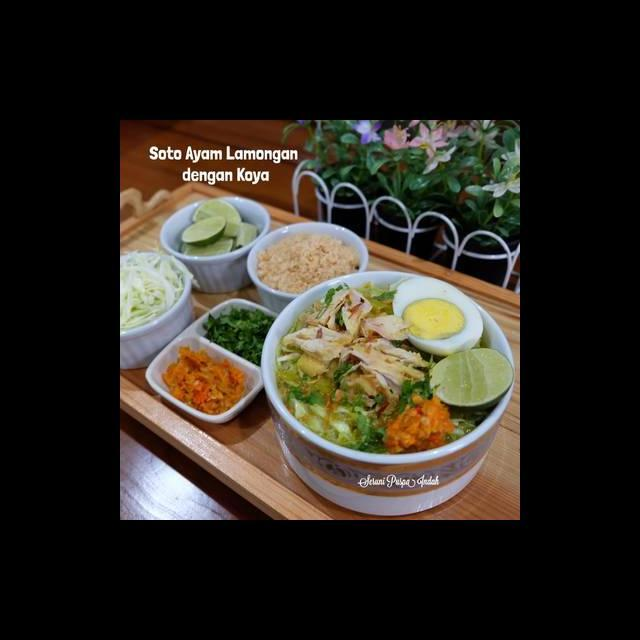Soto: (295, 284, 479, 448)
